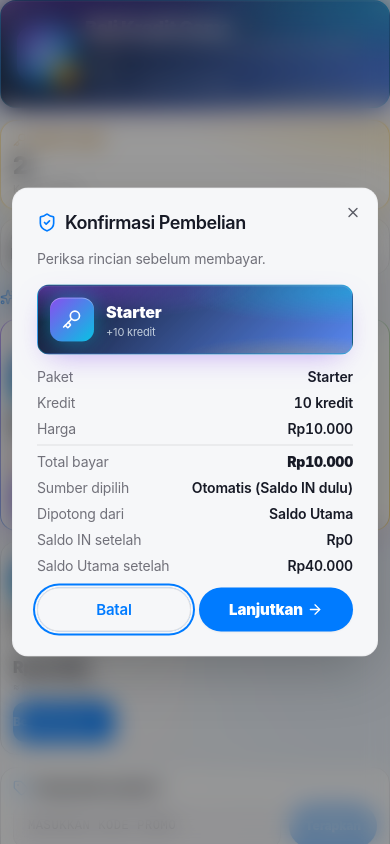
Test: CreditShopPanel › PIN salah memakai pesan creditErrorMessage, bukan error mentah
Earlier steps of the test are not shown.
Click the 3rd button named "Lanjutkan" at (276, 610), box [199,588,353,632]
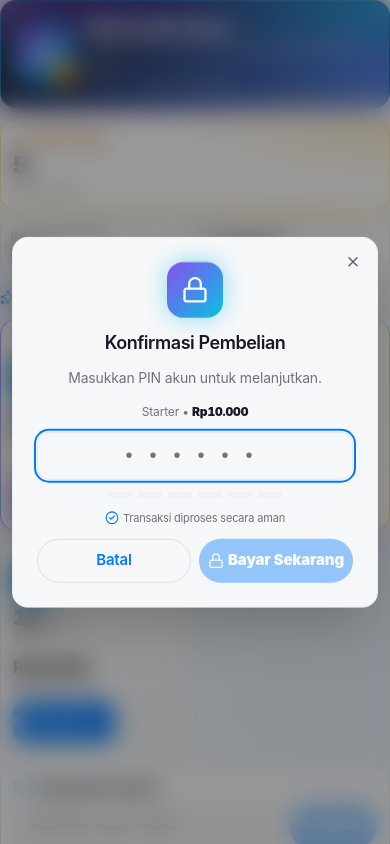
Type "000000" into the password field named "PIN 6 digit" at (195, 456), box [37,432,353,480]
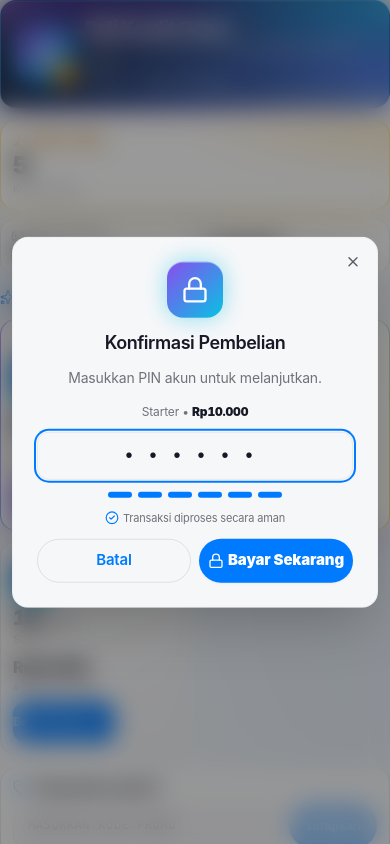
Click the 3rd button named "Bayar Sekarang" at (276, 560), box [199,538,353,582]
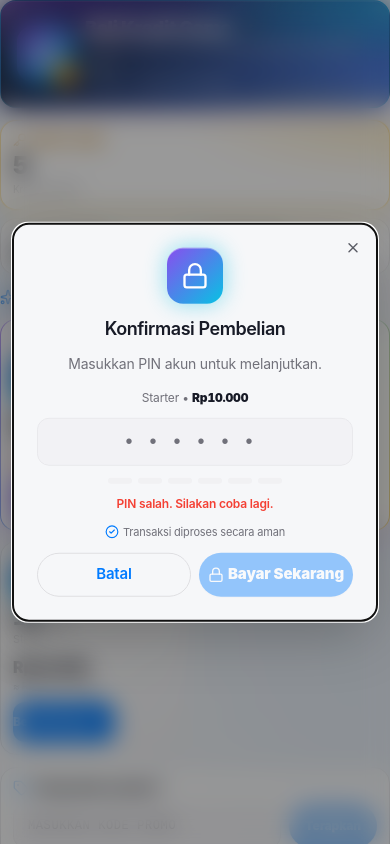
Result: the text "PIN salah. Silakan coba lagi." is shown at [116,496,274,511]
